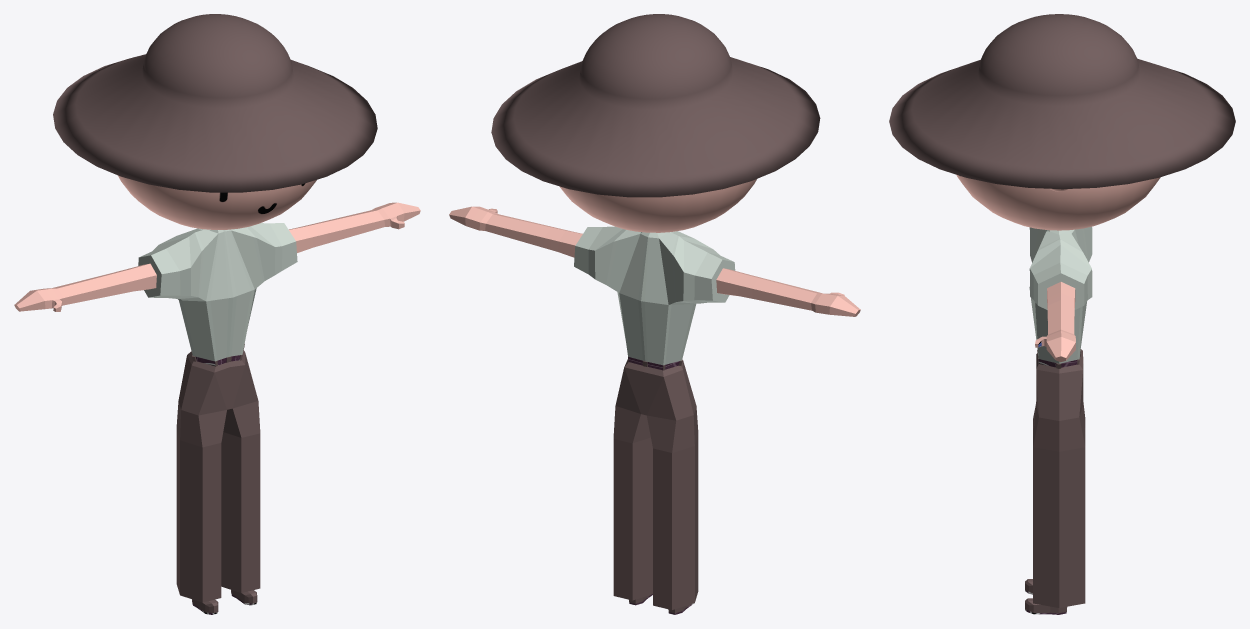
Rendered from scoutcamp_leader_char.fbx.
3 views of the same model, side by side, from view 1: azimuth 30°, elevation 25°; view 2: azimuth 150°, elevation 25°; view 3: azimuth 270°, elevation 25° (orthographic).
Parts seen in each view (by area): view 1: LHat, LTorso, LHead; view 2: LHat, LTorso, LHead; view 3: LHat, LTorso, LHead.
Boxes of the visible parts, box(x1,y1,x2,y2) form: LHat: box(53, 14, 377, 192); LTorso: box(14, 202, 420, 614); LHead: box(118, 175, 316, 229); LHat: box(491, 14, 820, 197); LTorso: box(449, 206, 860, 614); LHead: box(559, 179, 756, 232); LHat: box(889, 14, 1235, 189); LTorso: box(1025, 226, 1092, 614); LHead: box(956, 174, 1160, 230).
Bounding box in the file's own units: 257 × 351 × 190.
Materials: 3 (2 with a texture image).
